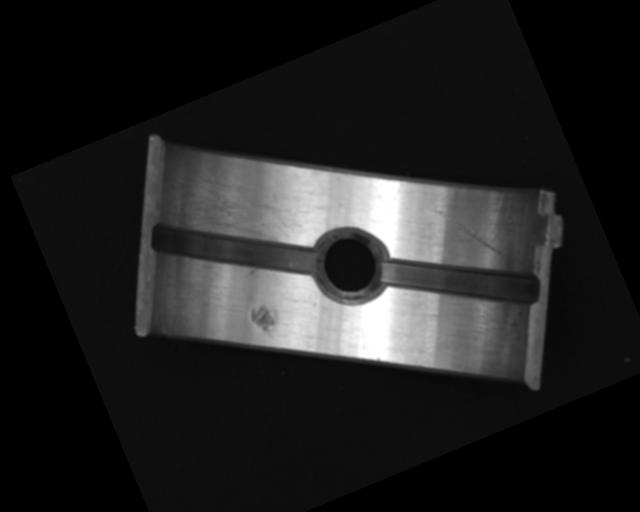bruise: (246, 300, 283, 343)
gap: (144, 172, 323, 326), (376, 210, 544, 353)
hole: (303, 218, 396, 315)
nick: (432, 189, 505, 274)
scratch: (165, 142, 306, 278)
